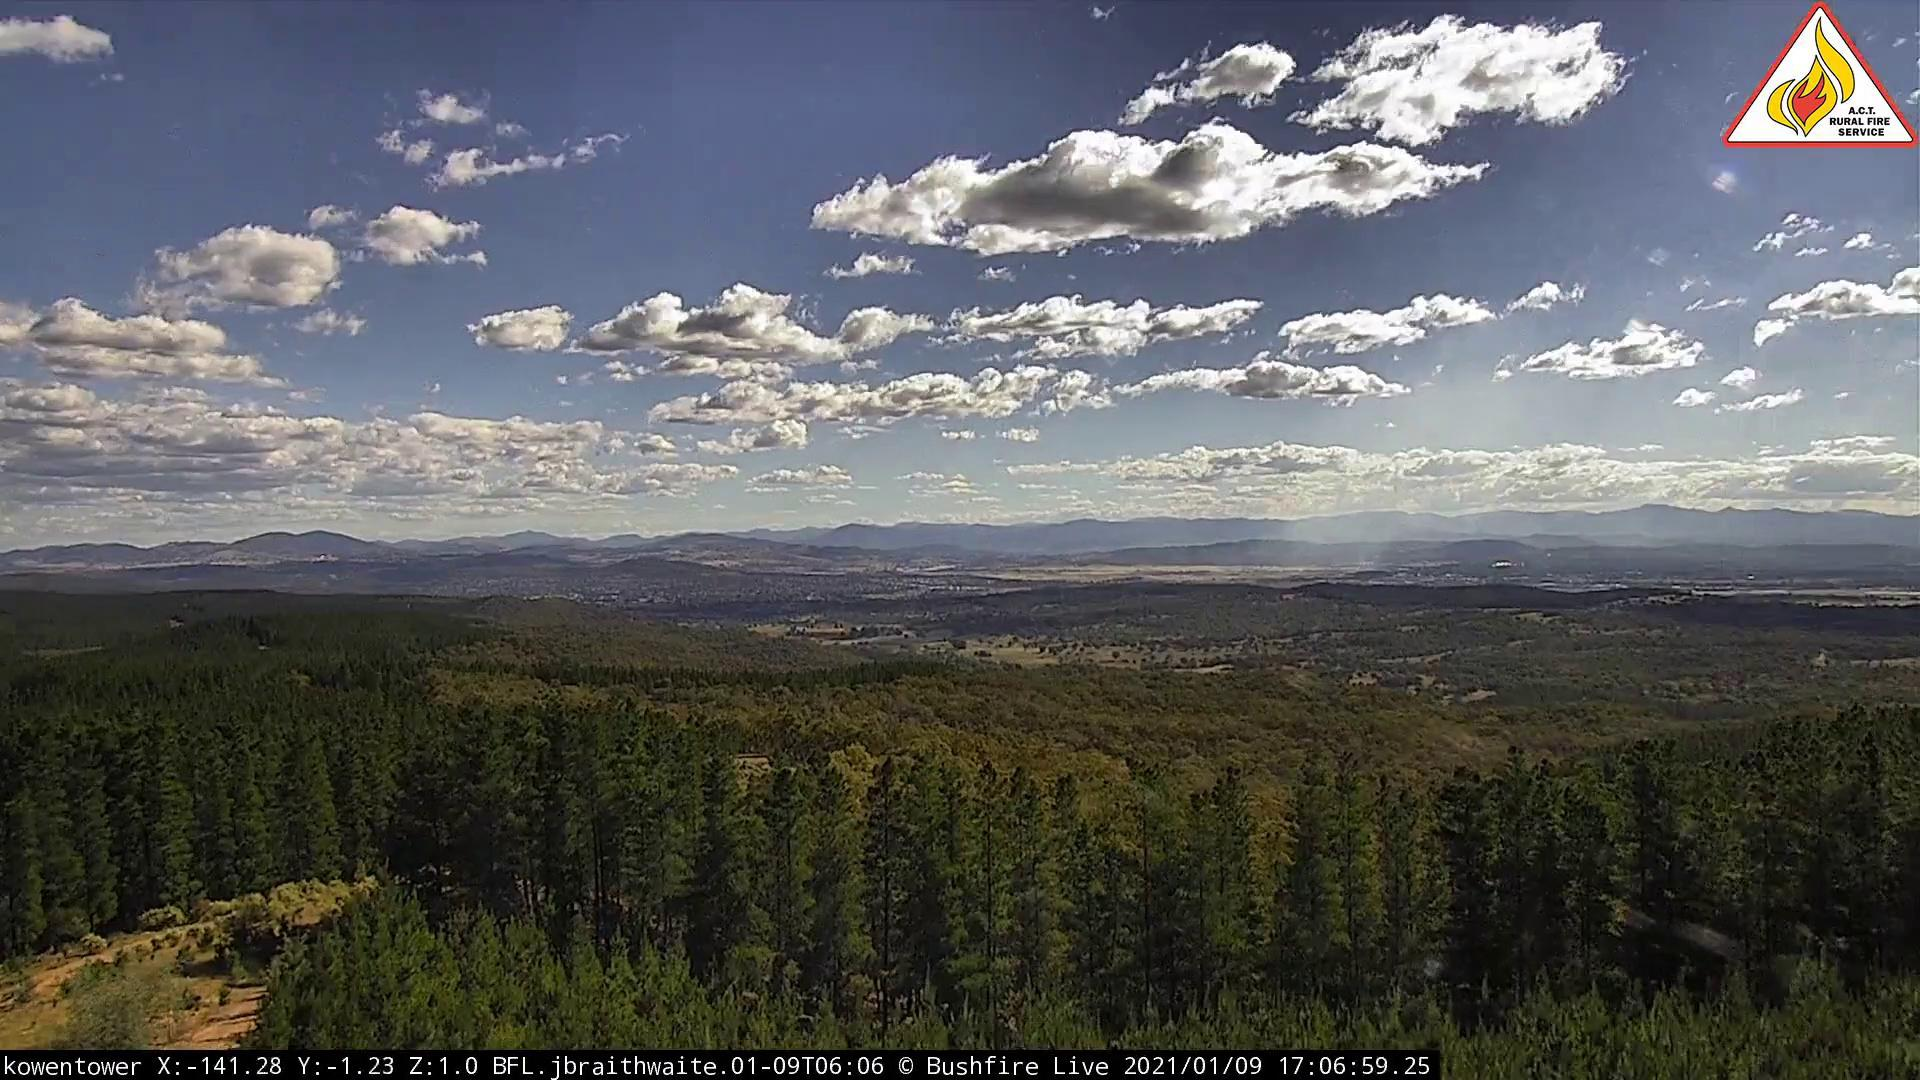Smoke: (1250, 520, 1404, 578)
